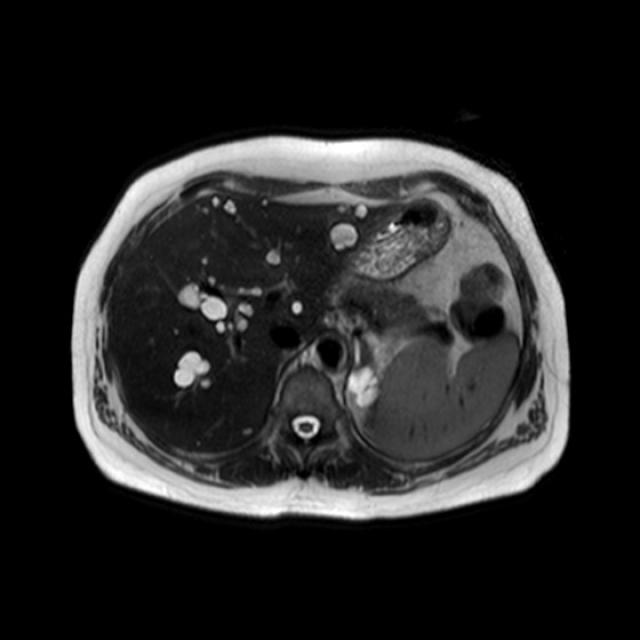sol: (345, 364, 383, 424)
